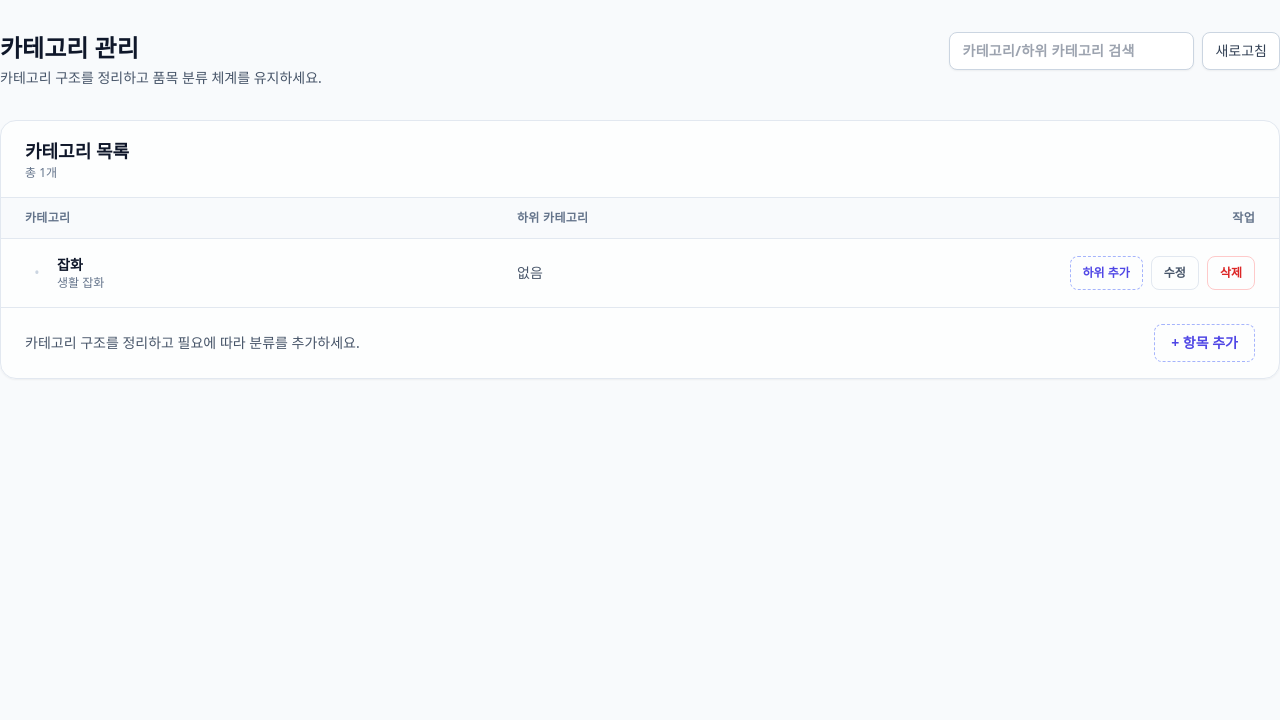
Test case: CategoryManagementPanel › edits an existing category through the edit dialog
Click the button "수정" at (1175,273), box x1=1151 y1=256 x2=1199 y2=290
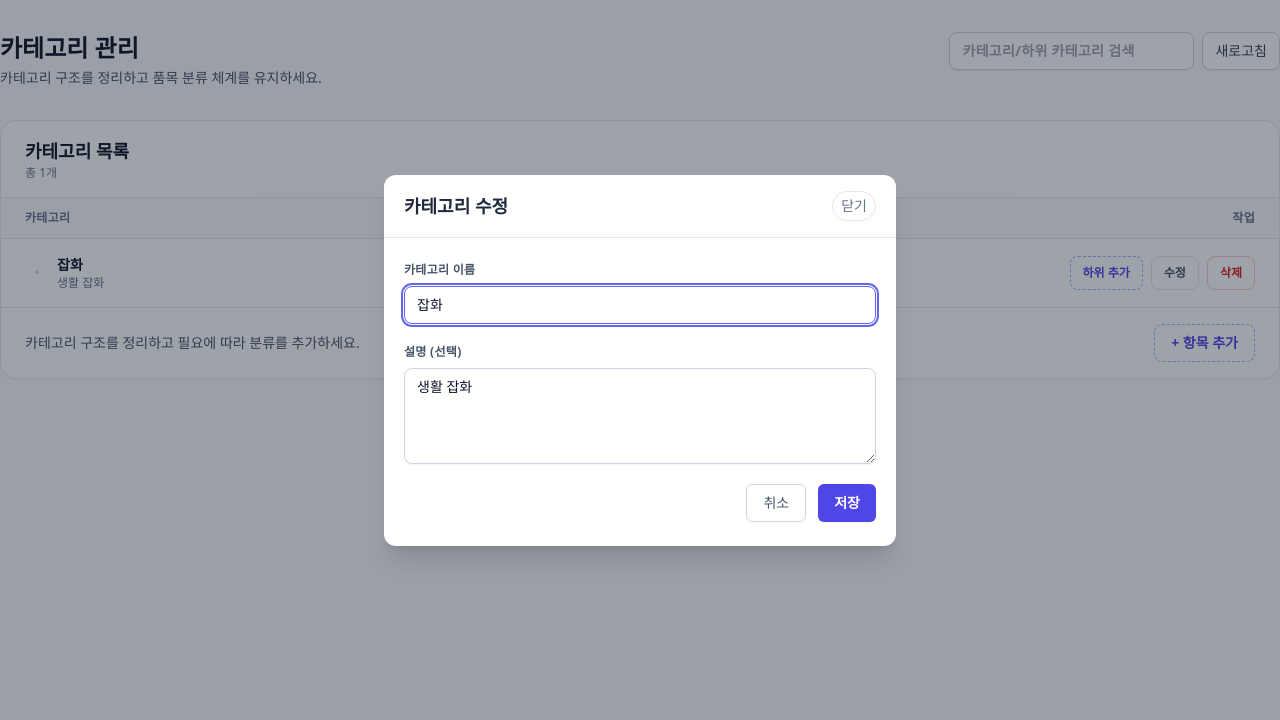
Replace the text in the field with "생활 잡화" at (640,304), box x1=404 y1=286 x2=876 y2=324
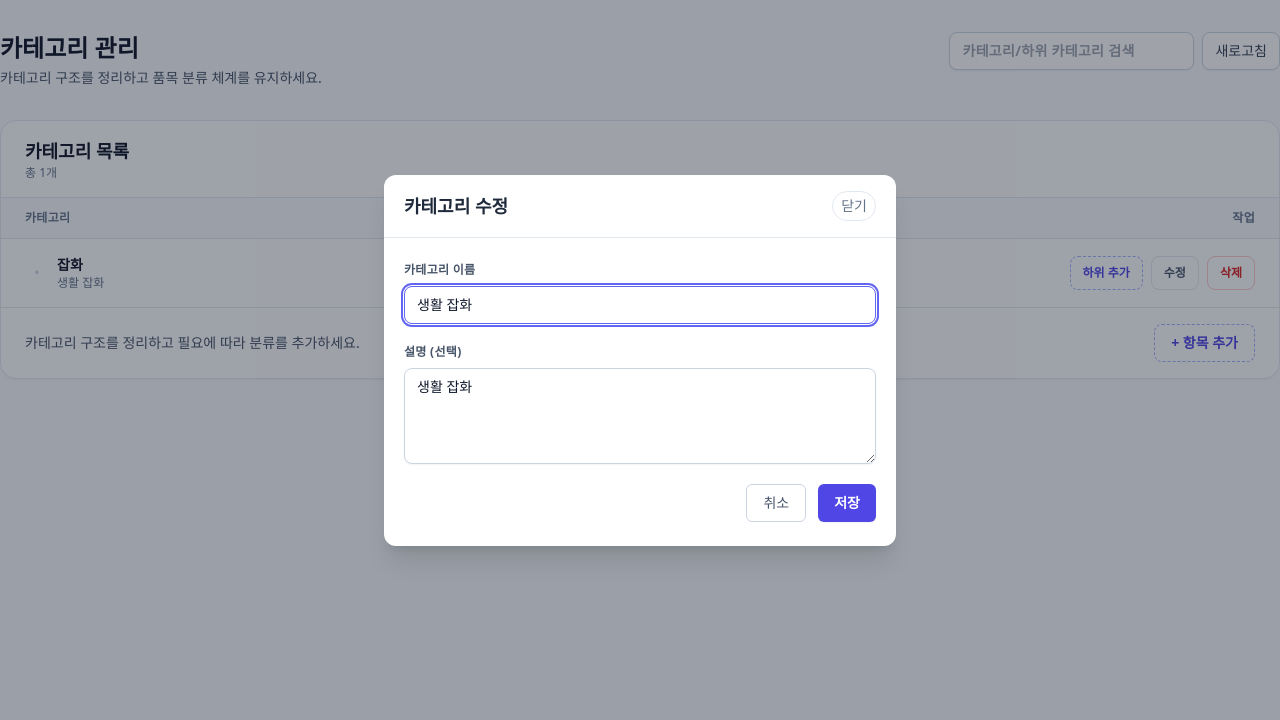
Replace the text in the text box with "가정용 생활 잡화" at (640,416), box x1=404 y1=368 x2=876 y2=464
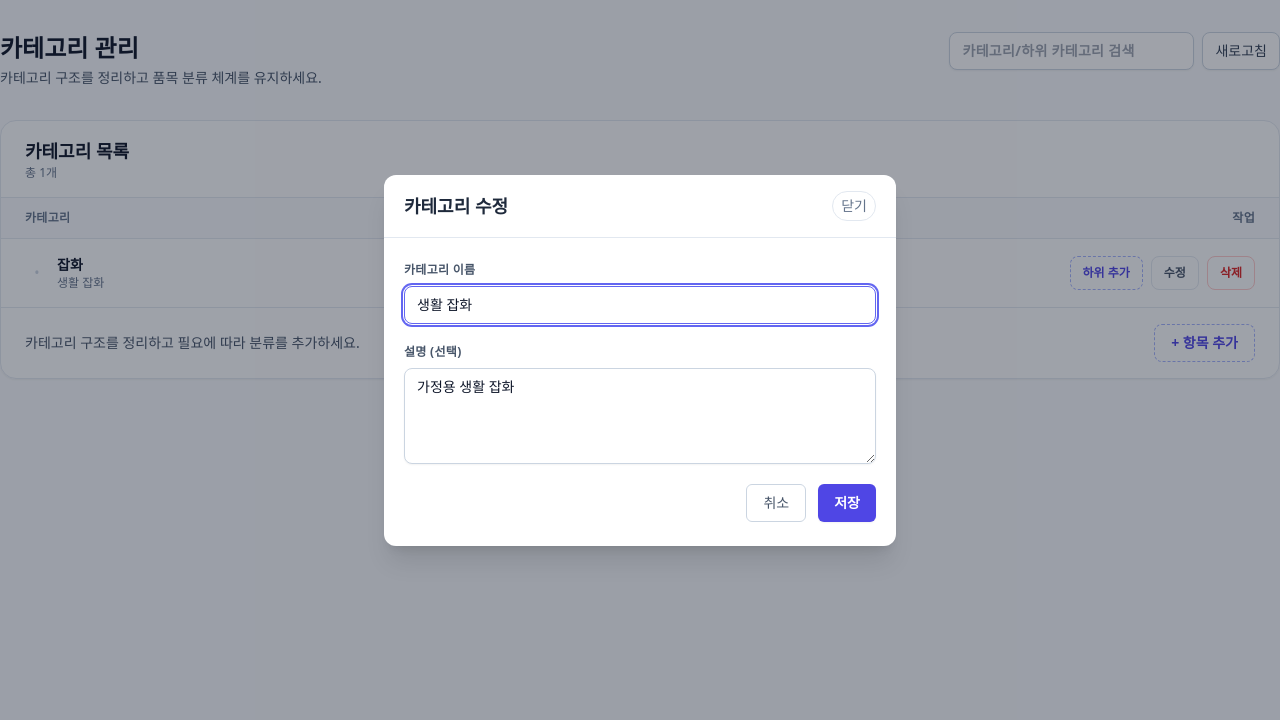
Submit the form, box x1=384 y1=238 x2=896 y2=546
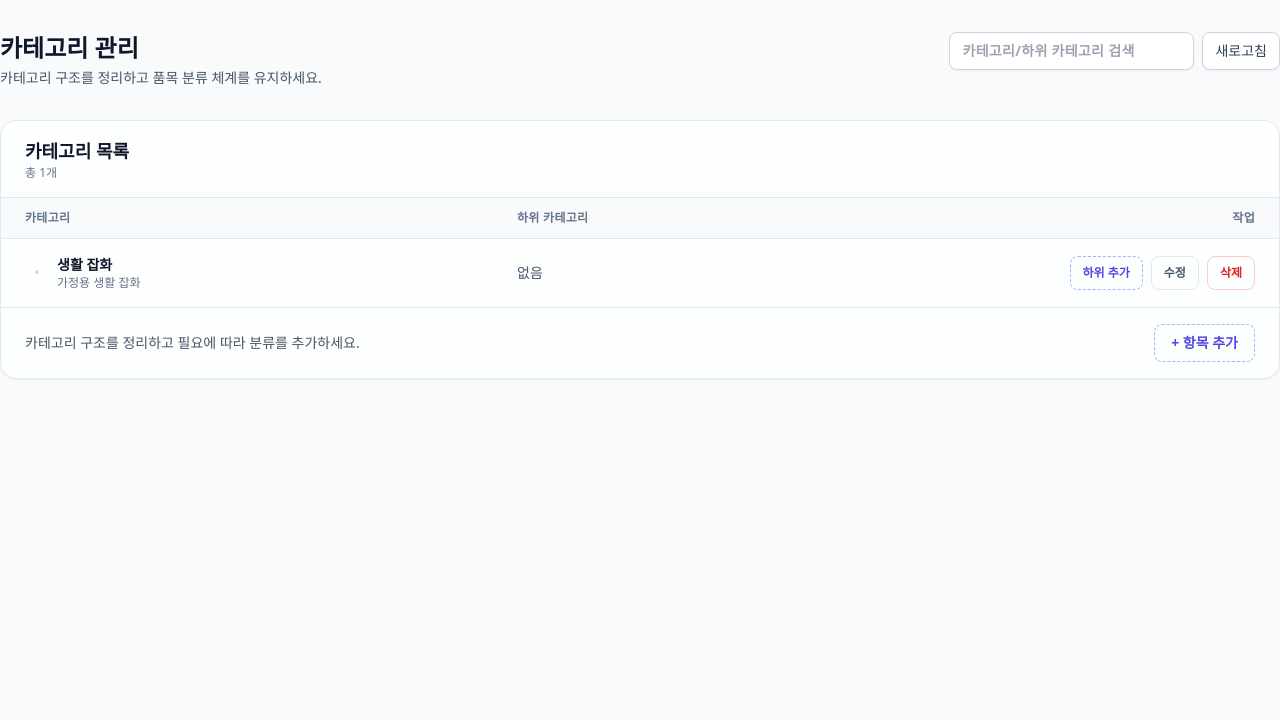
Result: the text "생활 잡화" is shown at x1=57 y1=255 x2=112 y2=274
